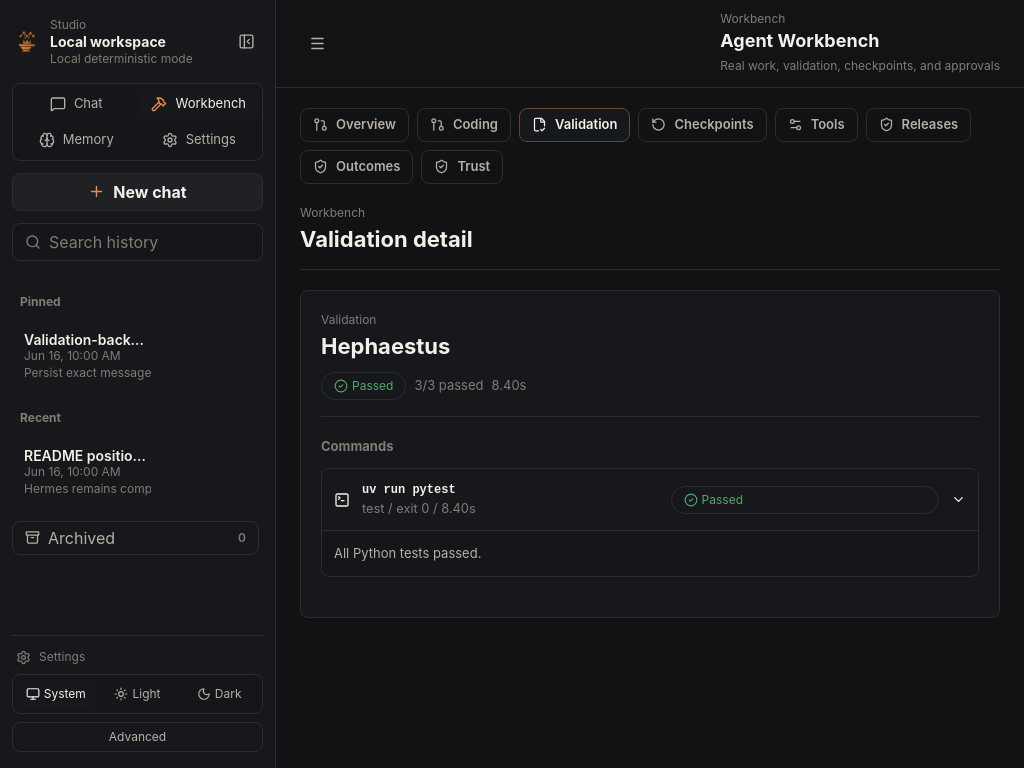
Test case: StudioApp › renders validation detail with collapsed command output
The image size is (1024, 768).
Expected: the heading "Hephaestus" is shown, [321,333,450,359]
Expected: the text "uv run pytest" is shown, [362,483,456,497]
Click the button "uv run pytest test / exit 0 / 8.40s Passed": (409, 490) [322,469,978,531]
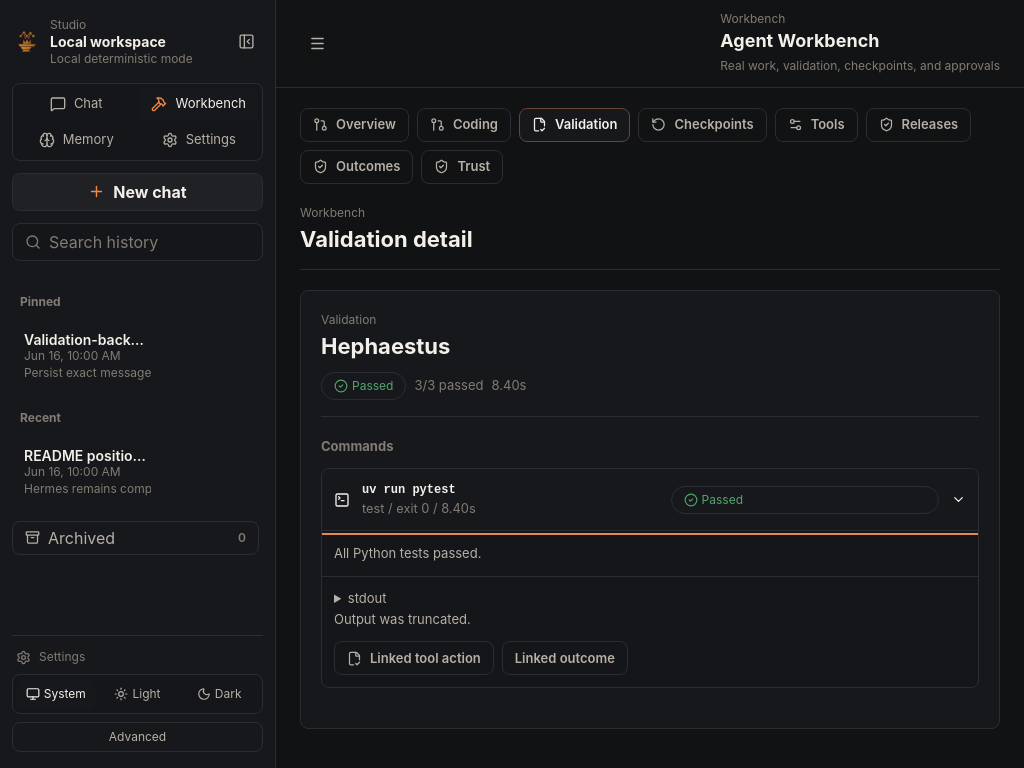
Expected: the text "Output was truncated." is shown, [334,610,471,626]
